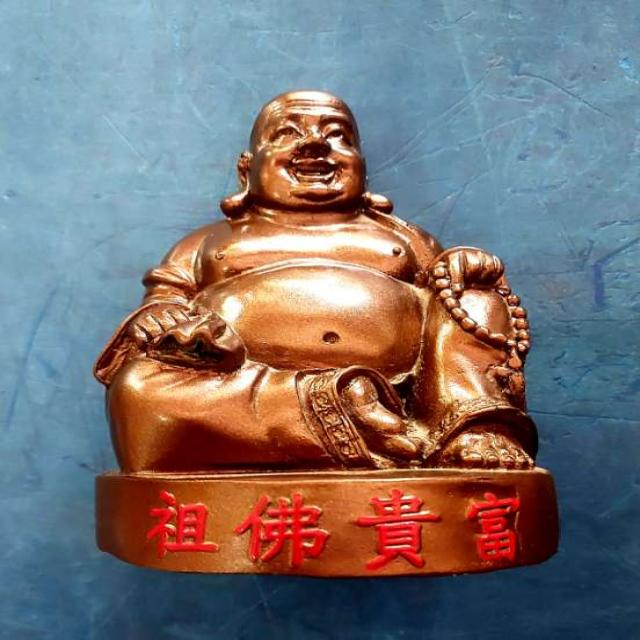Smiling Buddha: (107, 87, 536, 455)
